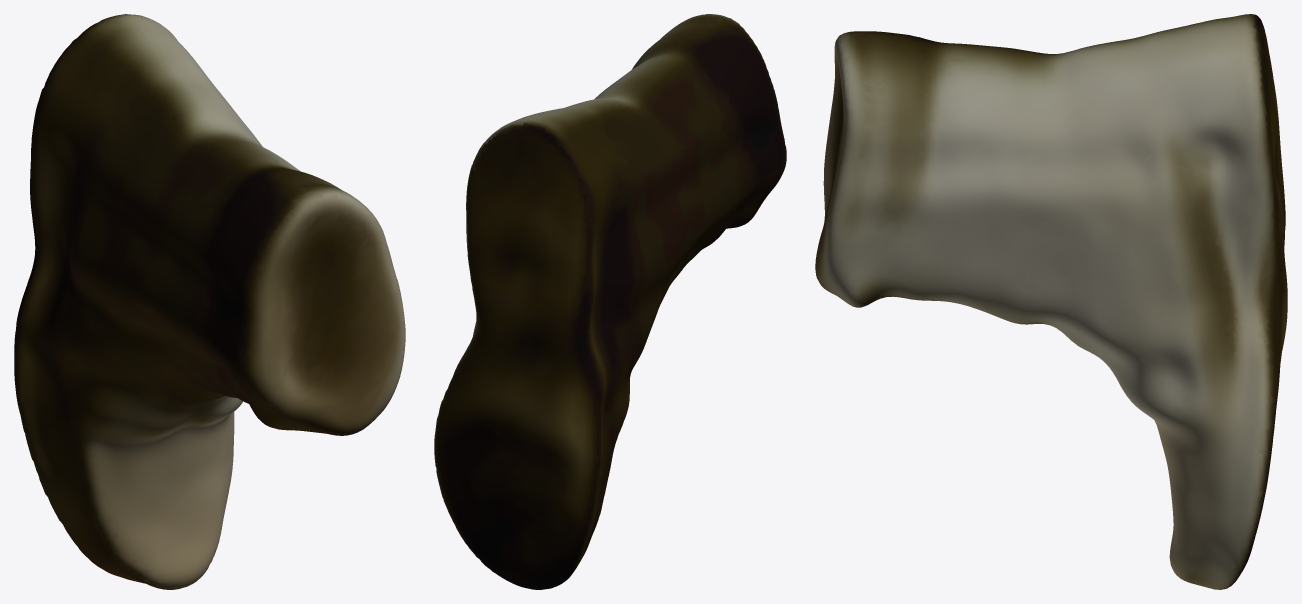
Rendered from shoe1.glb.
3 renders of one model, left to right at view 1: azimuth 30°, elevation 25°; view 2: azimuth 150°, elevation 25°; view 3: azimuth 270°, elevation 25°, orthographic. The views are drawn at different scales.
Size of the model in its own units: 0.3784 by 0.9991 by 0.7776.
